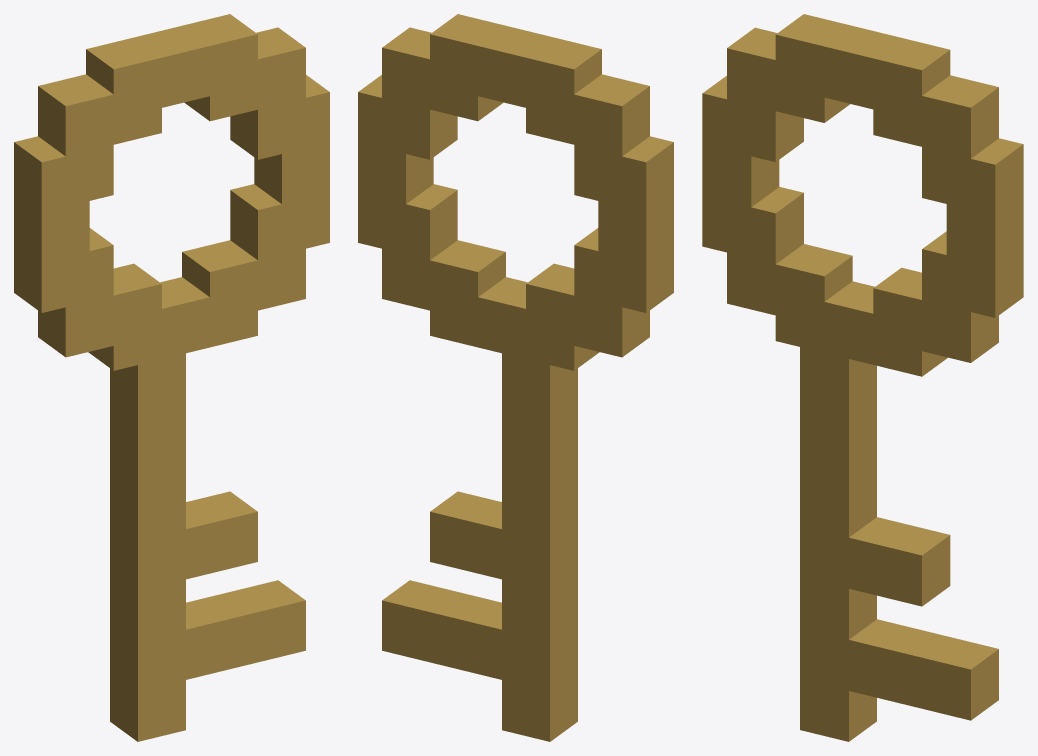
Rendered from property-03.glb.
The picture shows the model from 3 angles, left to right: view 1: azimuth 30°, elevation 25°; view 2: azimuth 150°, elevation 25°; view 3: azimuth 330°, elevation 25°; orthographic projection.
Parts seen in each view (by area): view 1: Property keys; view 2: Property keys; view 3: Property keys.
Part boxes in pixels (x1=…): Property keys: x1=14, y1=14, x2=329, y2=741; Property keys: x1=358, y1=14, x2=673, y2=741; Property keys: x1=702, y1=14, x2=1023, y2=741.
Size of the model in its own units: 0.96 by 2.16 by 0.16.
